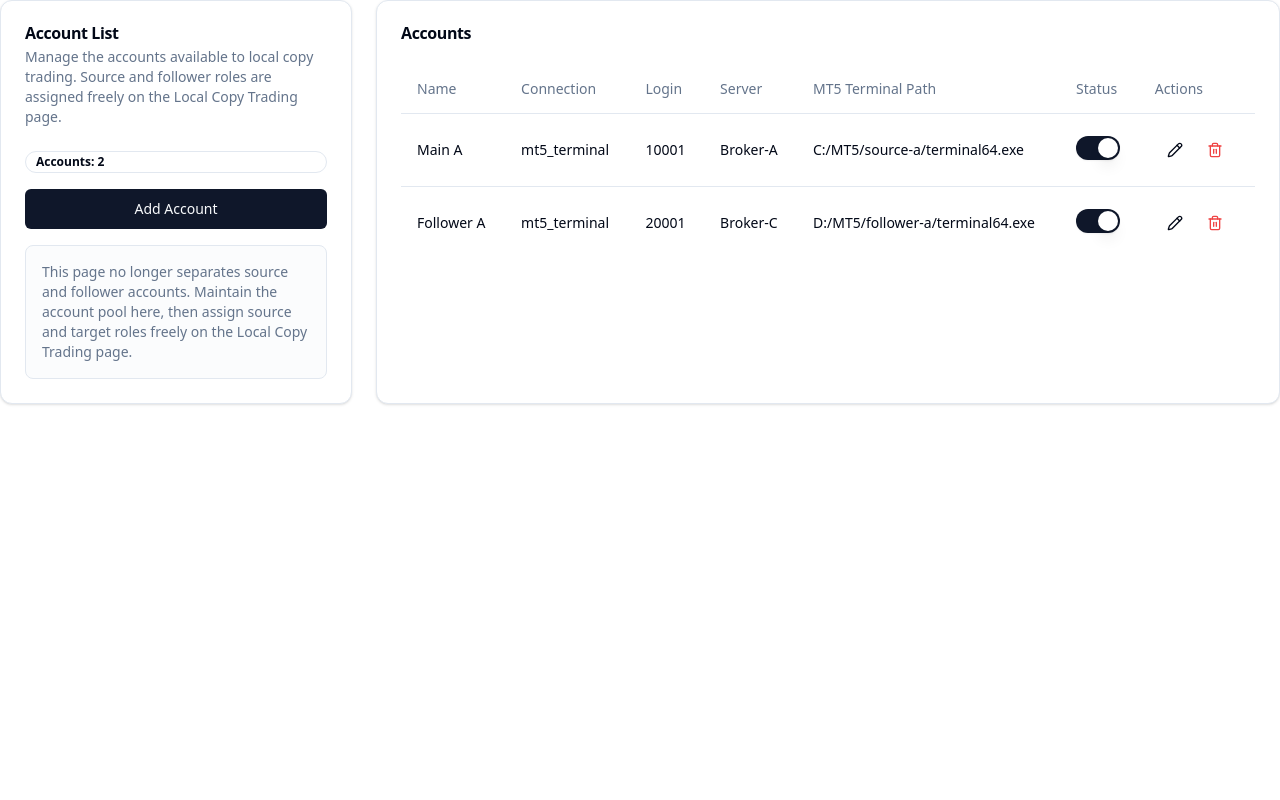
Scenario: Account List Page › warns about open copied positions when deleting an account
The width and height of the screenshot is (1280, 800).
Expected: the text "Main A" is shown, [401,113,505,186]
Click the button named "Confirm Deletion" in the row of "Main A" at (1215, 150), box [1195,130,1235,170]
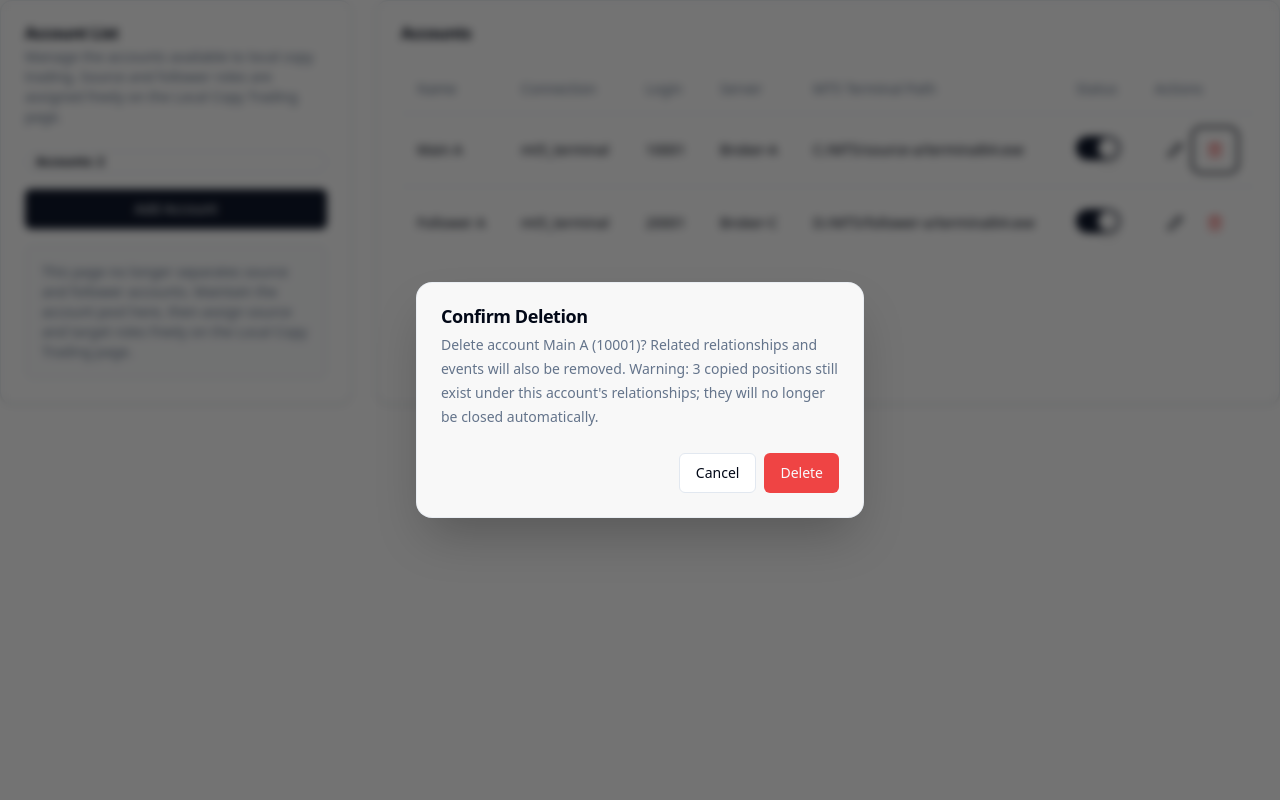
Now the text "3 copied positions" is shown, box [441,335,842,426]
